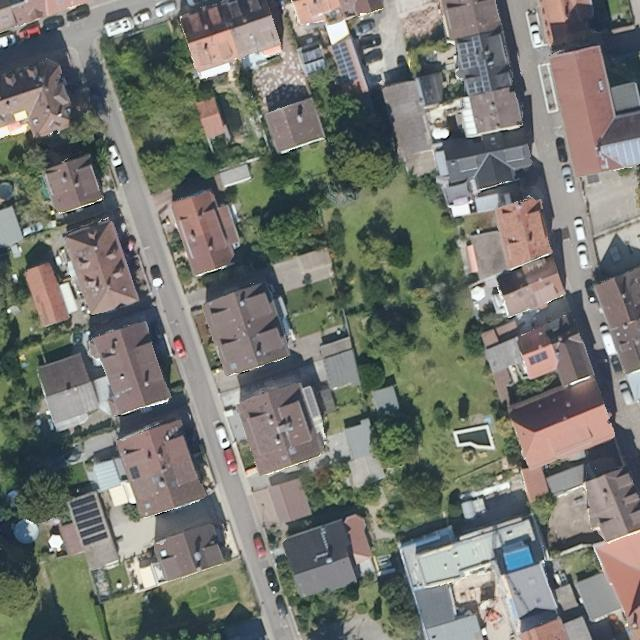PV: (453, 34, 495, 96), (68, 493, 111, 549), (331, 43, 357, 81), (299, 44, 328, 73), (522, 348, 551, 367)
